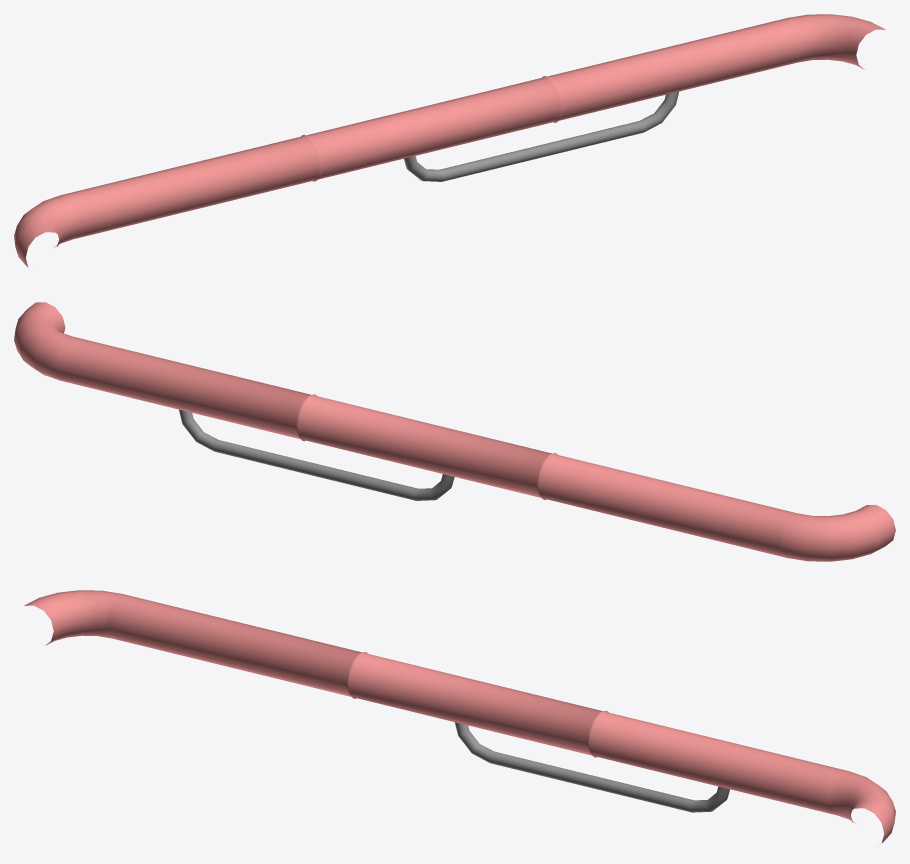
File: SM_Naliv_All_Tube_Section_3.gltf
3 views of the same model, one above another, from view 1: azimuth 30°, elevation 25°; view 2: azimuth 150°, elevation 25°; view 3: azimuth 330°, elevation 25° (orthographic).
Visible parts, largest first — view 1: SM_Naliv_All_Tube_Section_3; view 2: SM_Naliv_All_Tube_Section_3; view 3: SM_Naliv_All_Tube_Section_3.
Boxes of the visible parts, x1,y1,x2,y2 form: SM_Naliv_All_Tube_Section_3: (14,14,885,268); SM_Naliv_All_Tube_Section_3: (14,302,895,561); SM_Naliv_All_Tube_Section_3: (24,590,895,844).
Bounding box in the file's own units: 2.12 × 0.1808 × 0.1829.
